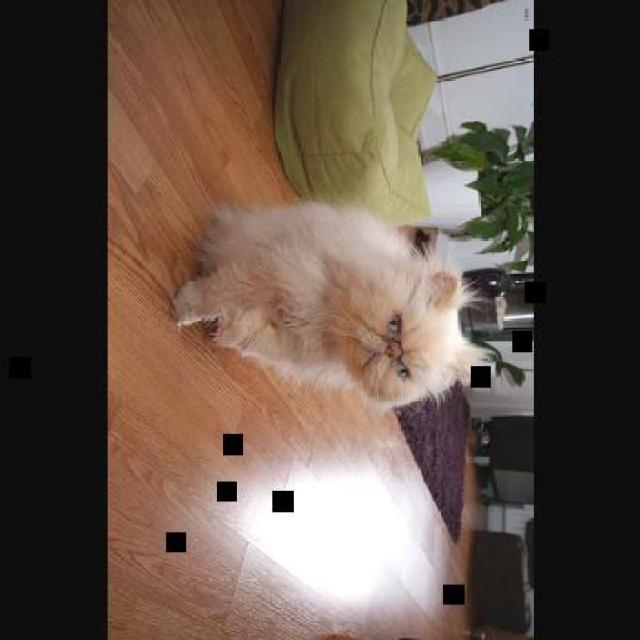unauthorized: (168, 197, 512, 414)
